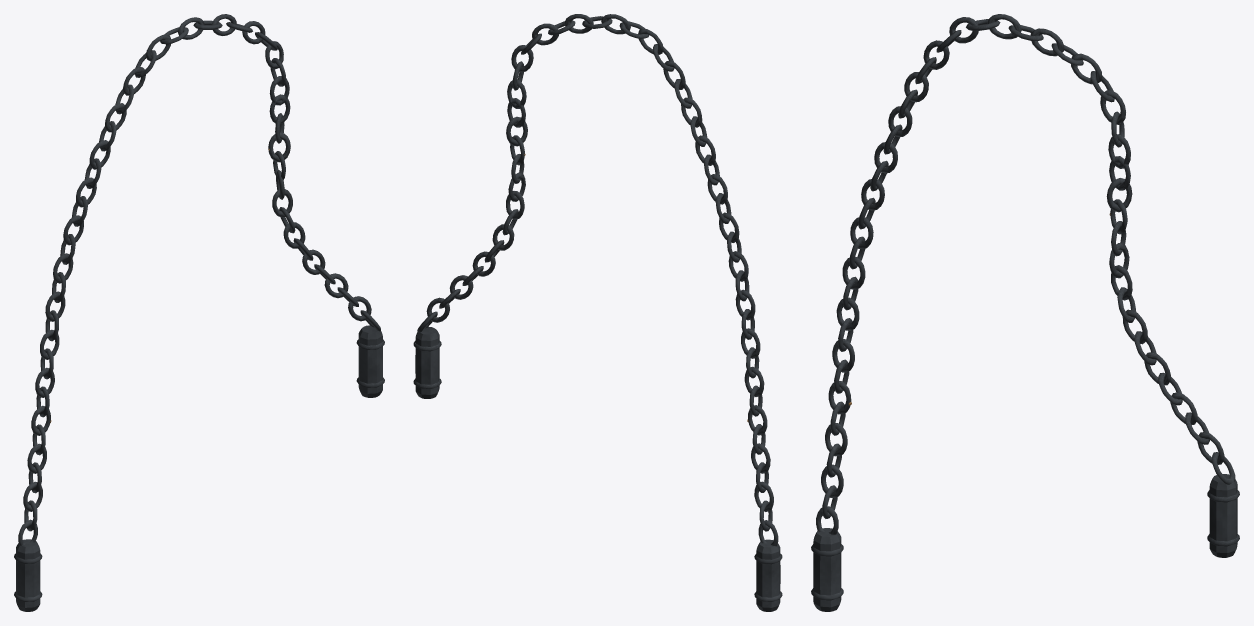
Rendered from weighted-chain.lod1.glb.
3 views of the same model, side by side, from view 1: azimuth 30°, elevation 25°; view 2: azimuth 150°, elevation 25°; view 3: azimuth 330°, elevation 25° (orthographic). The views are drawn at different scales.
Parts seen in each view (by area): view 1: darksteel / oil-blackened fittings; view 2: darksteel / oil-blackened fittings; view 3: darksteel / oil-blackened fittings.
Boxes of the visible parts, box(x1,y1,x2,y2) form: darksteel / oil-blackened fittings: box(14, 14, 384, 611); darksteel / oil-blackened fittings: box(413, 14, 782, 611); darksteel / oil-blackened fittings: box(811, 14, 1239, 611).
Size of the model in its own units: 0.708 by 1.02 by 0.0636.
2 materials, 1 textured.
